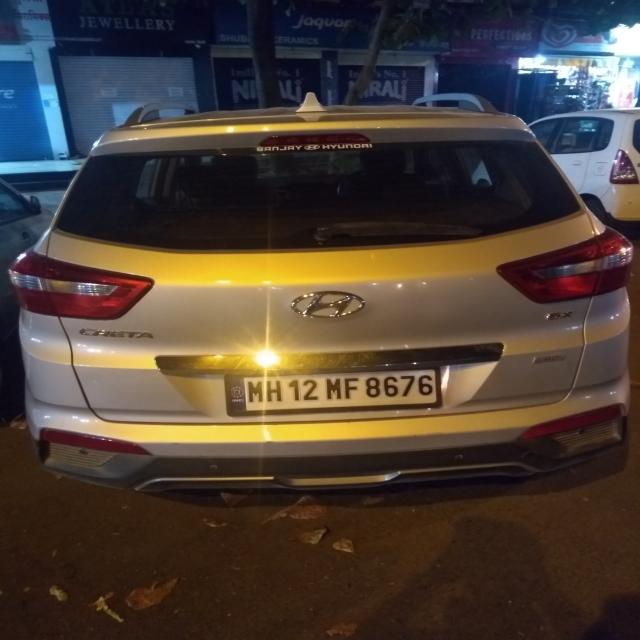Number-Plate: (228, 367, 437, 413)
